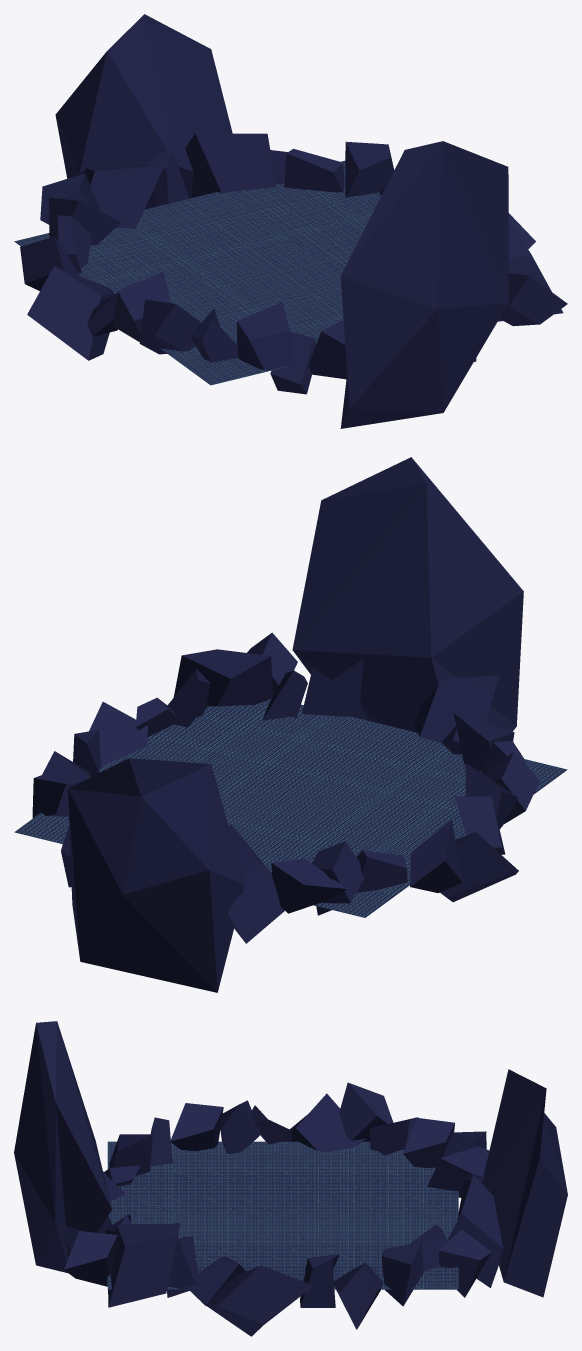
File: field.obj
3 renders of one model, top to bottom at view 1: azimuth 30°, elevation 25°; view 2: azimuth 150°, elevation 25°; view 3: azimuth 270°, elevation 25°, orthographic. The views are drawn at different scales.
Visible parts, largest first — view 1: pCube28, pPlane1; view 2: pCube28, pPlane1; view 3: pCube28, pPlane1.
Boxes of the visible parts, x1=… form: pCube28: x1=20, y1=14, x2=567, y2=428; pPlane1: x1=14, y1=160, x2=381, y2=385; pCube28: x1=32, y1=457, x2=539, y2=992; pPlane1: x1=14, y1=699, x2=567, y2=917; pCube28: x1=14, y1=1021, x2=567, y2=1336; pPlane1: x1=107, y1=1141, x2=458, y2=1289.
Size of the model in its own units: 200 by 125 by 237.
Materials: 2 (2 with a texture image).
